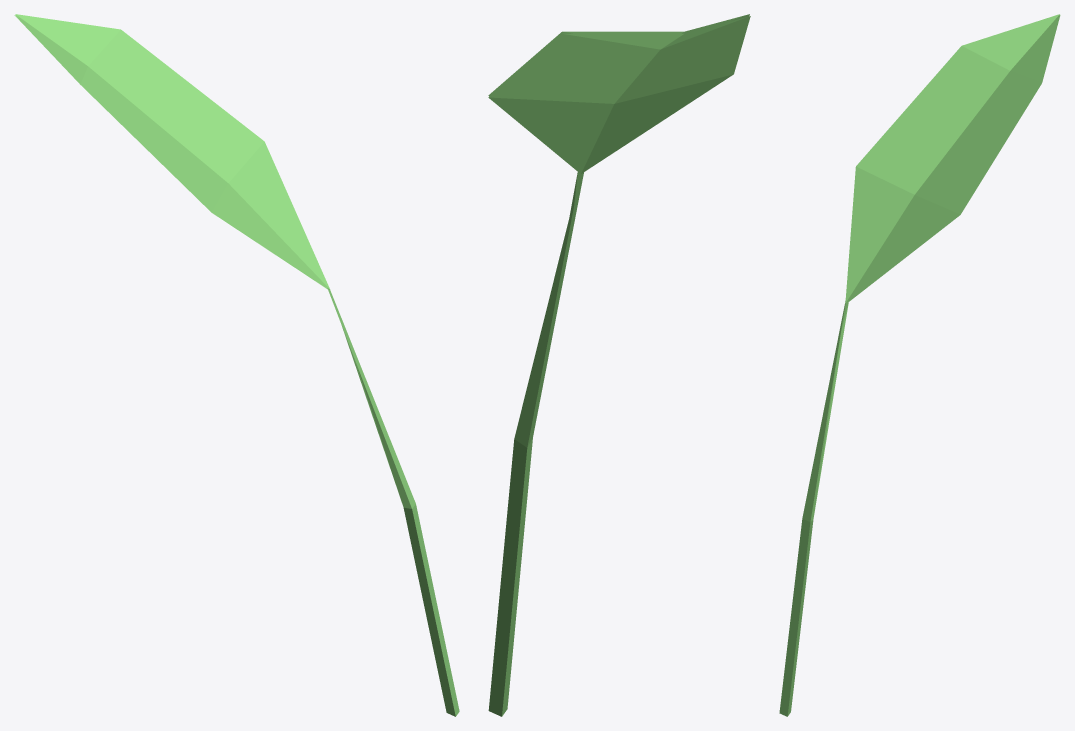
File: Plant_j_TwoS_01.fbx
3 views of the same model, side by side, from view 1: azimuth 30°, elevation 25°; view 2: azimuth 150°, elevation 25°; view 3: azimuth 270°, elevation 25° (orthographic). The views are drawn at different scales.
Parts seen in each view (by area): view 1: Plant_j_TwoS_01; view 2: Plant_j_TwoS_01; view 3: Plant_j_TwoS_01.
Part boxes in pixels (x1,y1,x2,y2): Plant_j_TwoS_01: (14,14,459,716); Plant_j_TwoS_01: (488,14,750,716); Plant_j_TwoS_01: (779,14,1060,716).
Size of the model in its own units: 23.37 by 50.34 by 22.19.
